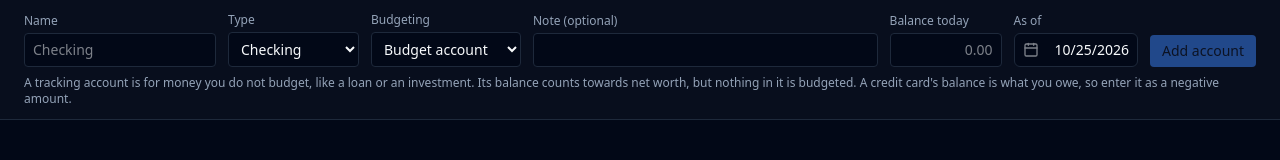
Test: NewAccountForm › refuses a balance it cannot read
Type "Cash" into the field with placeholder "Checking" at (120, 50), box [24,33,216,67]
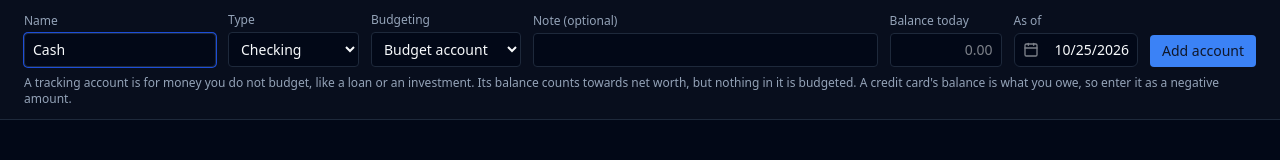
Type "lots" into the field with placeholder "0.00" at (946, 50), box [890,33,1002,67]
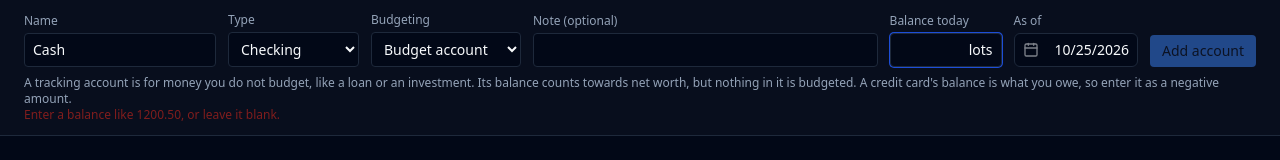
Expected: the button "Add account" is disabled, [1150,35,1256,67]
Expected: the text "Enter a balance like 1200.50, or leave it blank." is shown, [24,106,280,123]
